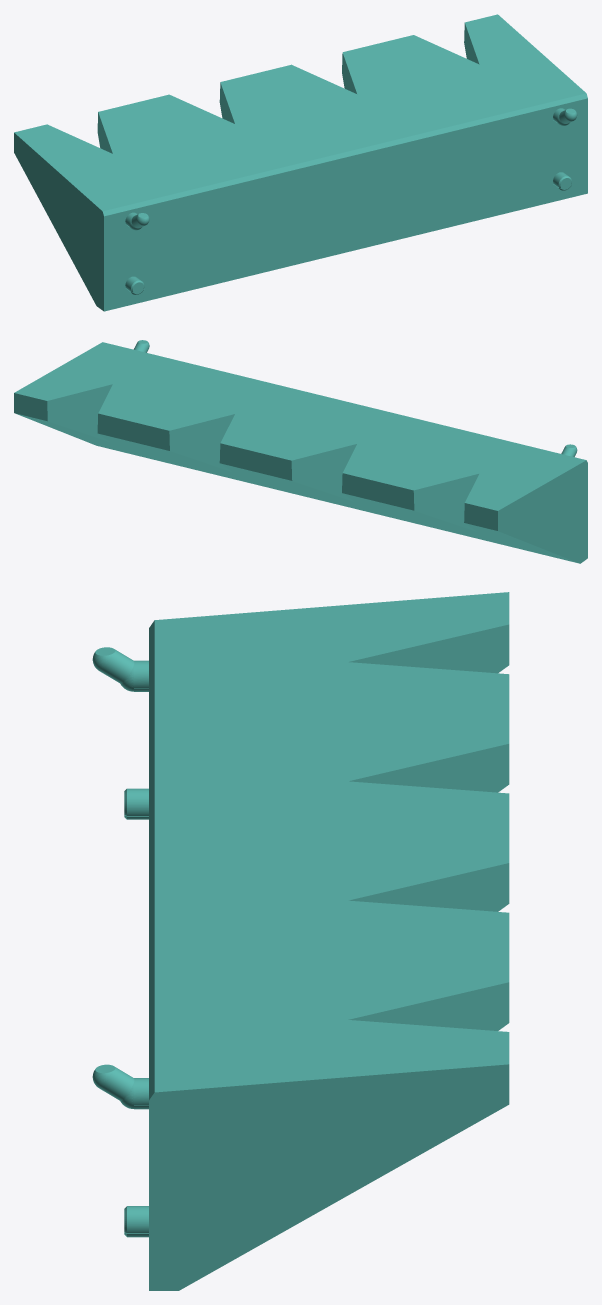
The model's file is part-bd01-slope-e__v2__installed.glb.
The picture shows the model from 3 angles, top to bottom: view 1: azimuth 30°, elevation 25°; view 2: azimuth 150°, elevation 25°; view 3: azimuth 270°, elevation 25°; orthographic projection. The views are drawn at different scales.
Parts seen in each view (by area): view 1: Actual holder mesh; view 2: Actual holder mesh; view 3: Actual holder mesh.
Part boxes in pixels (x1,y1,x2,y2): Actual holder mesh: [14, 14, 587, 311]; Actual holder mesh: [14, 340, 587, 563]; Actual holder mesh: [92, 592, 509, 1290].
Bounding box in the file's own units: 0.2012 × 0.045 × 0.075.
